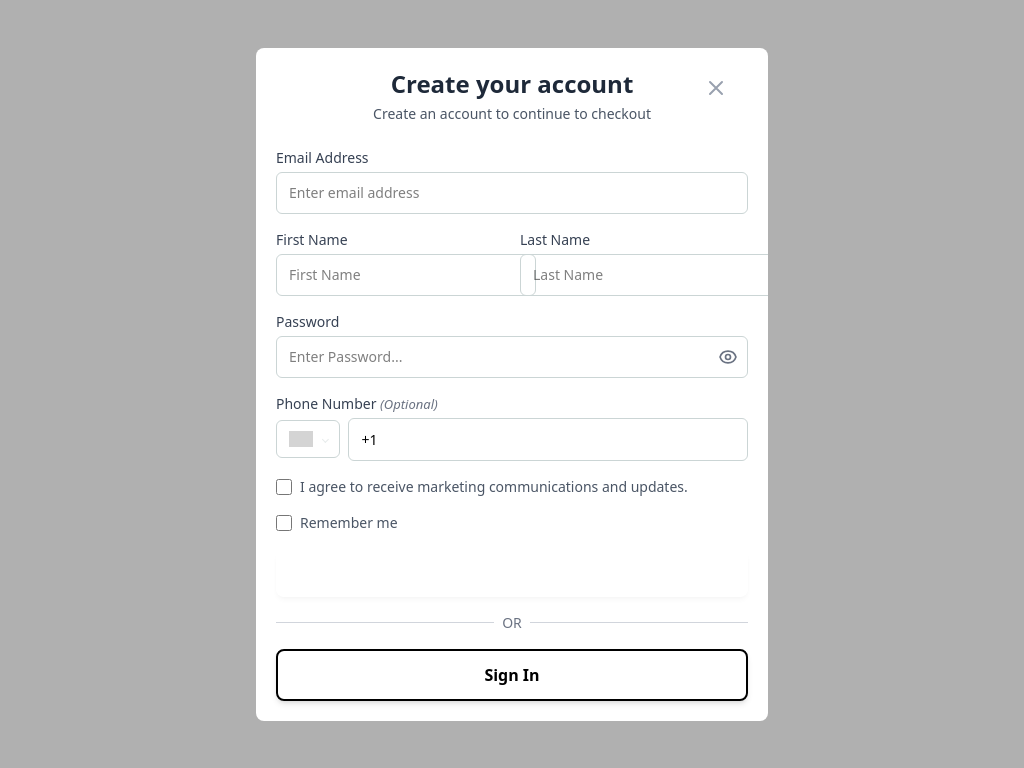
Test: CreateAccountForm Component › should show existing account banner
Type "existing2@example.com" into the field with placeholder "Enter email address" at (512, 192), box [276, 172, 748, 214]
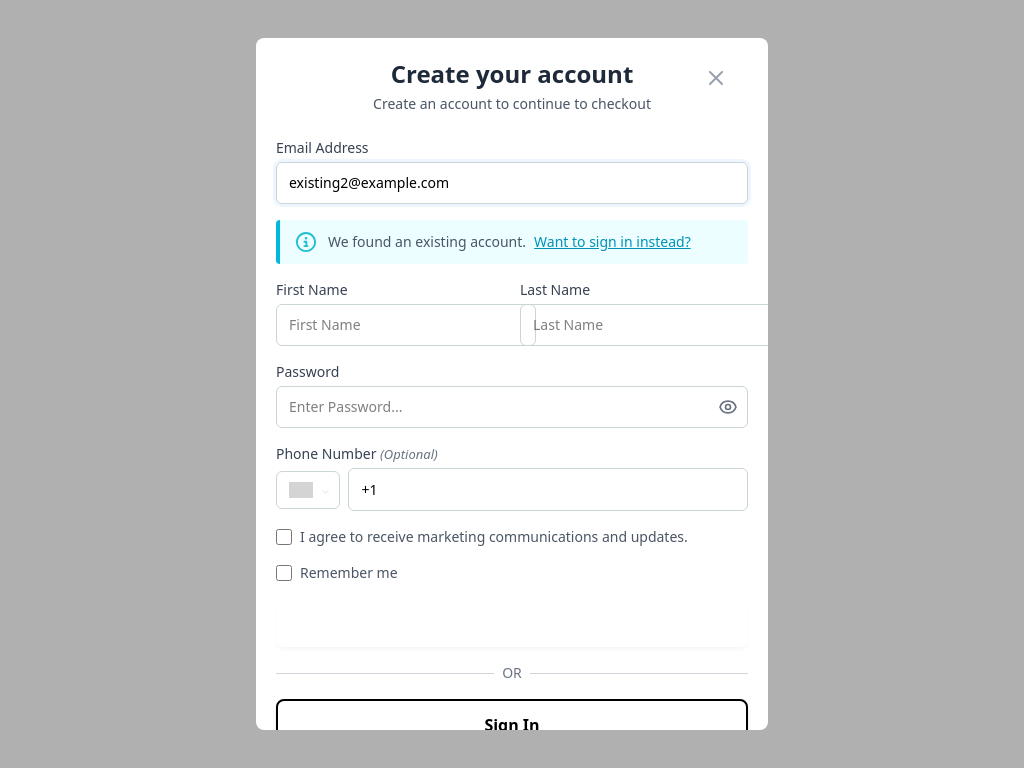
expect the text "We found an existing account." is shown: met, box [328, 232, 526, 252]
